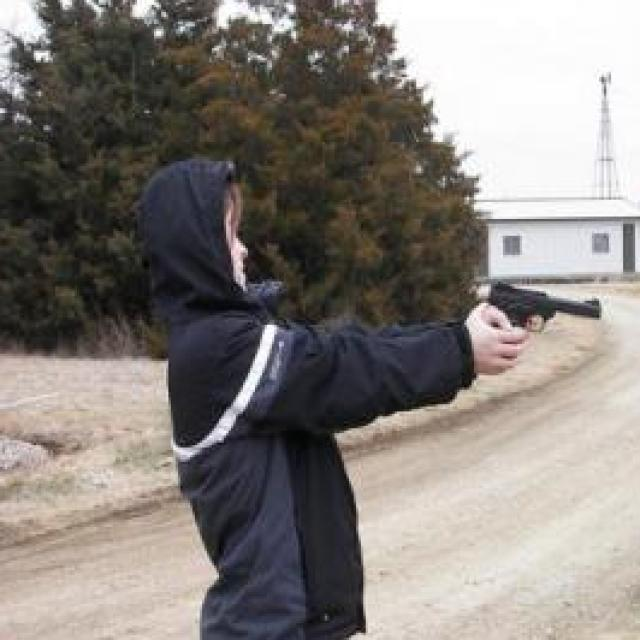pistol: (482, 279, 604, 345)
